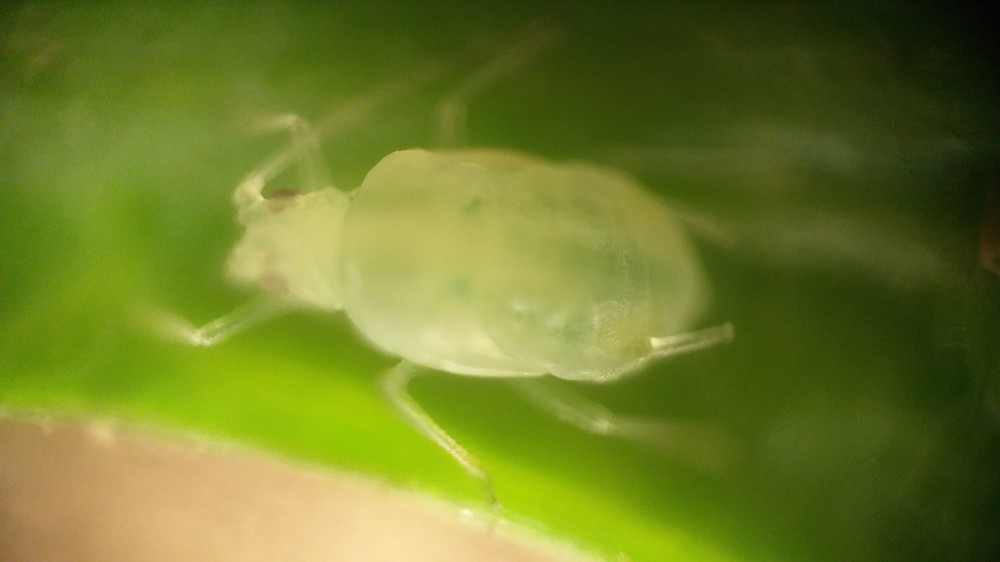Pulgon: (150, 31, 824, 506)
